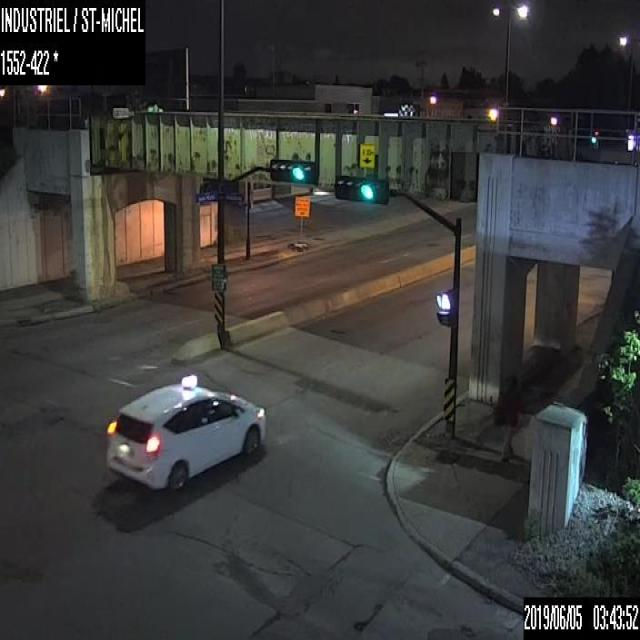construction: (290, 195, 309, 250)
pedestrian: (492, 374, 524, 464)
vehicle: (104, 379, 267, 493)
